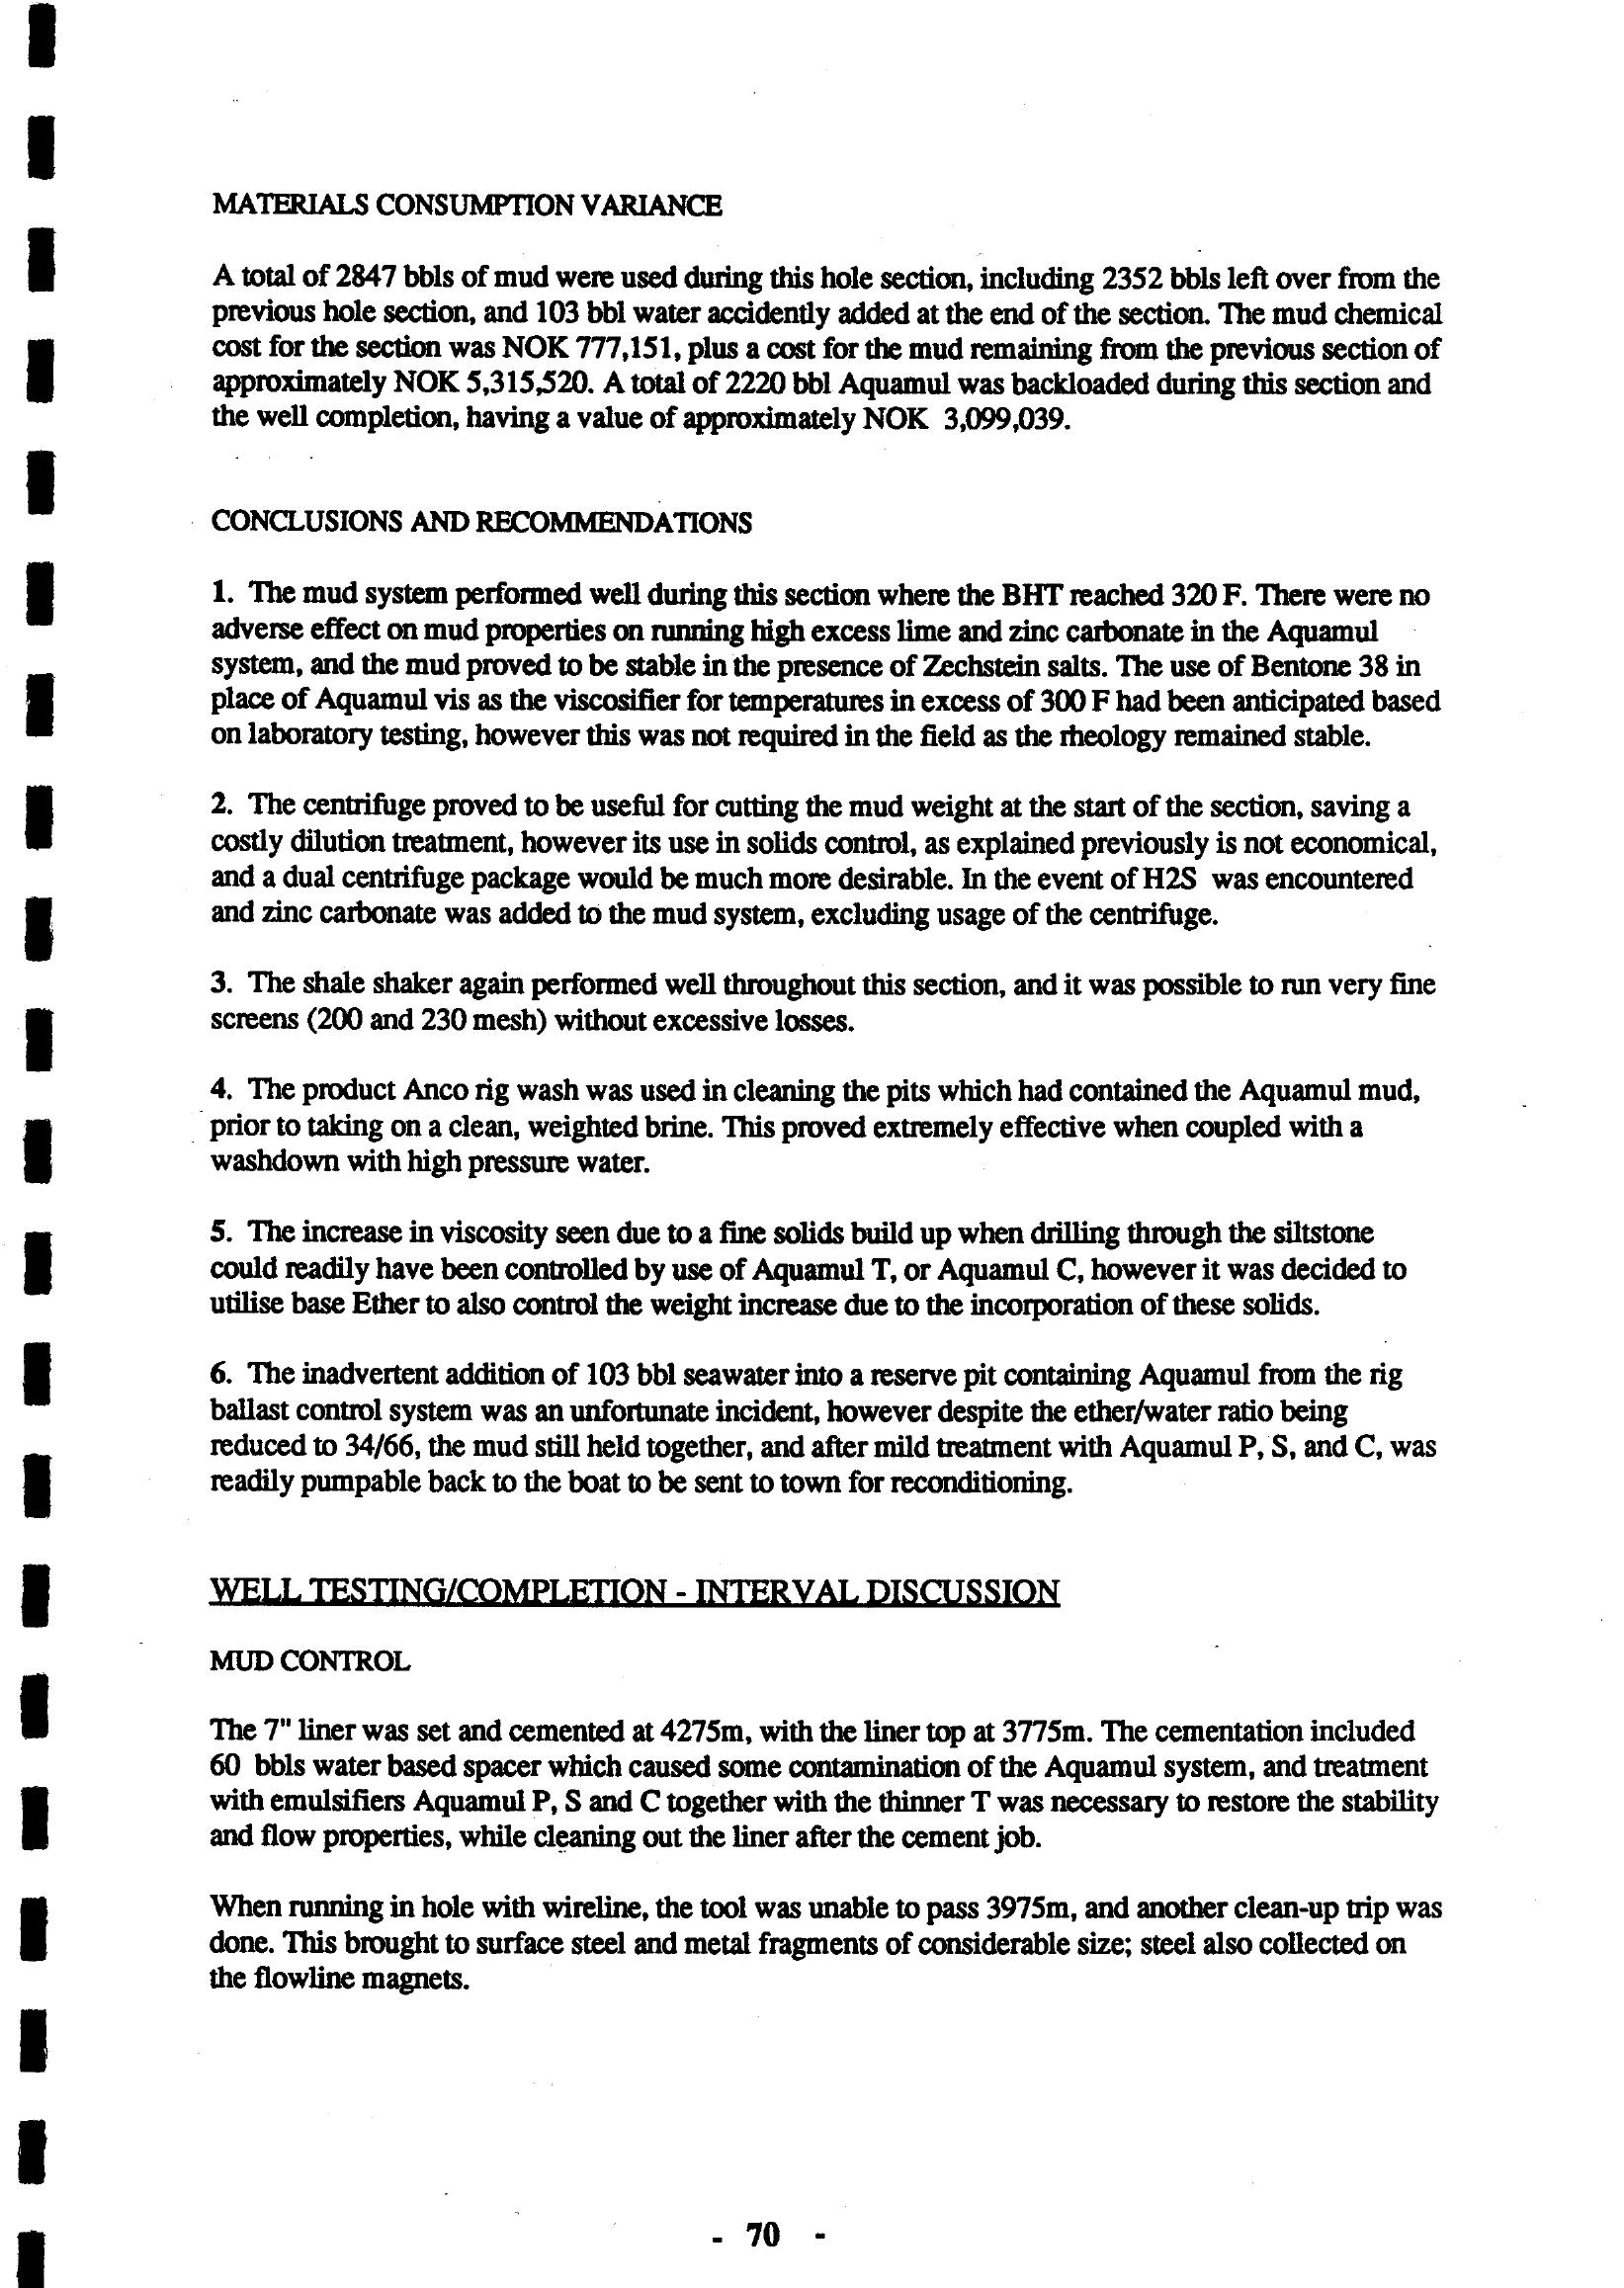text: (188, 153, 1496, 2038)
